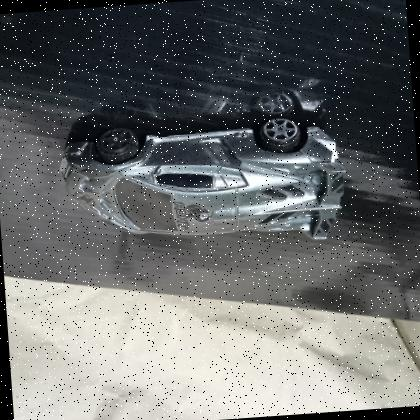Car: (54, 106, 358, 263)
